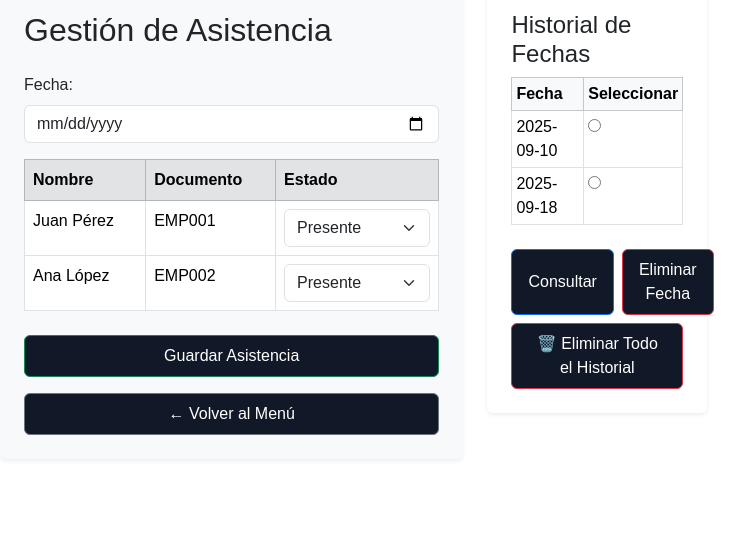
Scenario: GestionAsistencia › elimina fecha correctamente
expect the text "Juan Pérez" is shown: met, box [24,201,146,256]
Click the radio button showing "2025-09-10" next to "2025-09-10": (595, 125) [588,119,601,132]
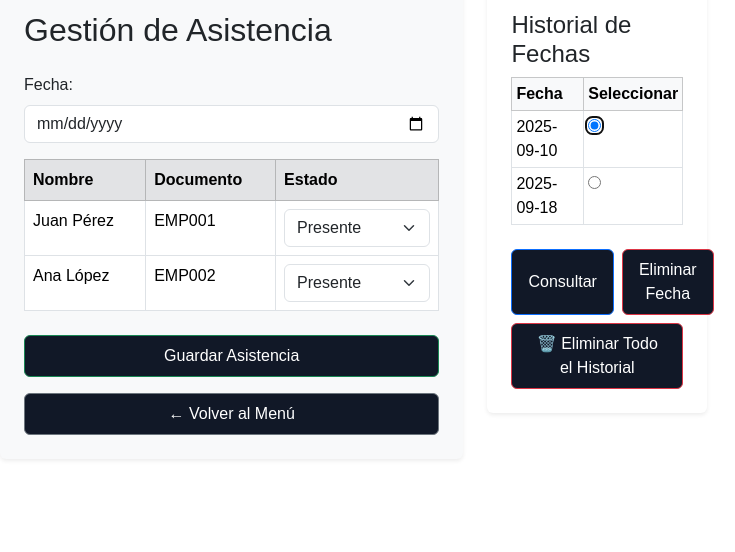
Click the button "Eliminar Fecha": (668, 282) [622,249,714,315]
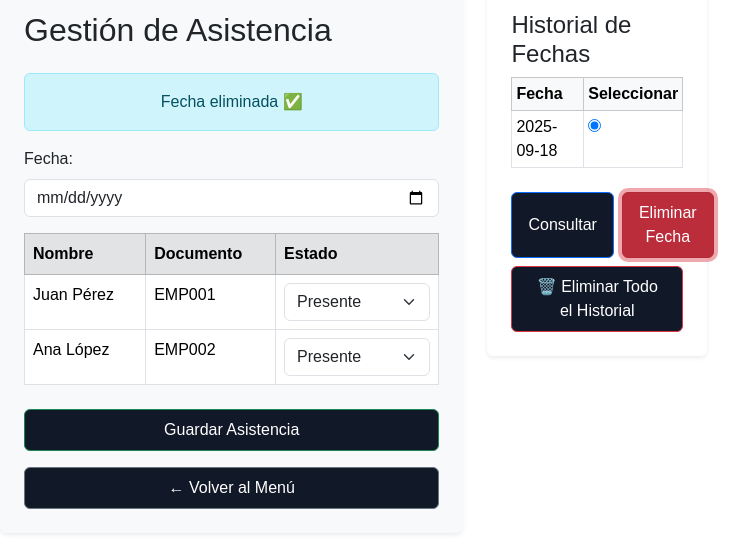
expect the text "Fecha eliminada ✅" is shown: met, box [24,73,439,131]
